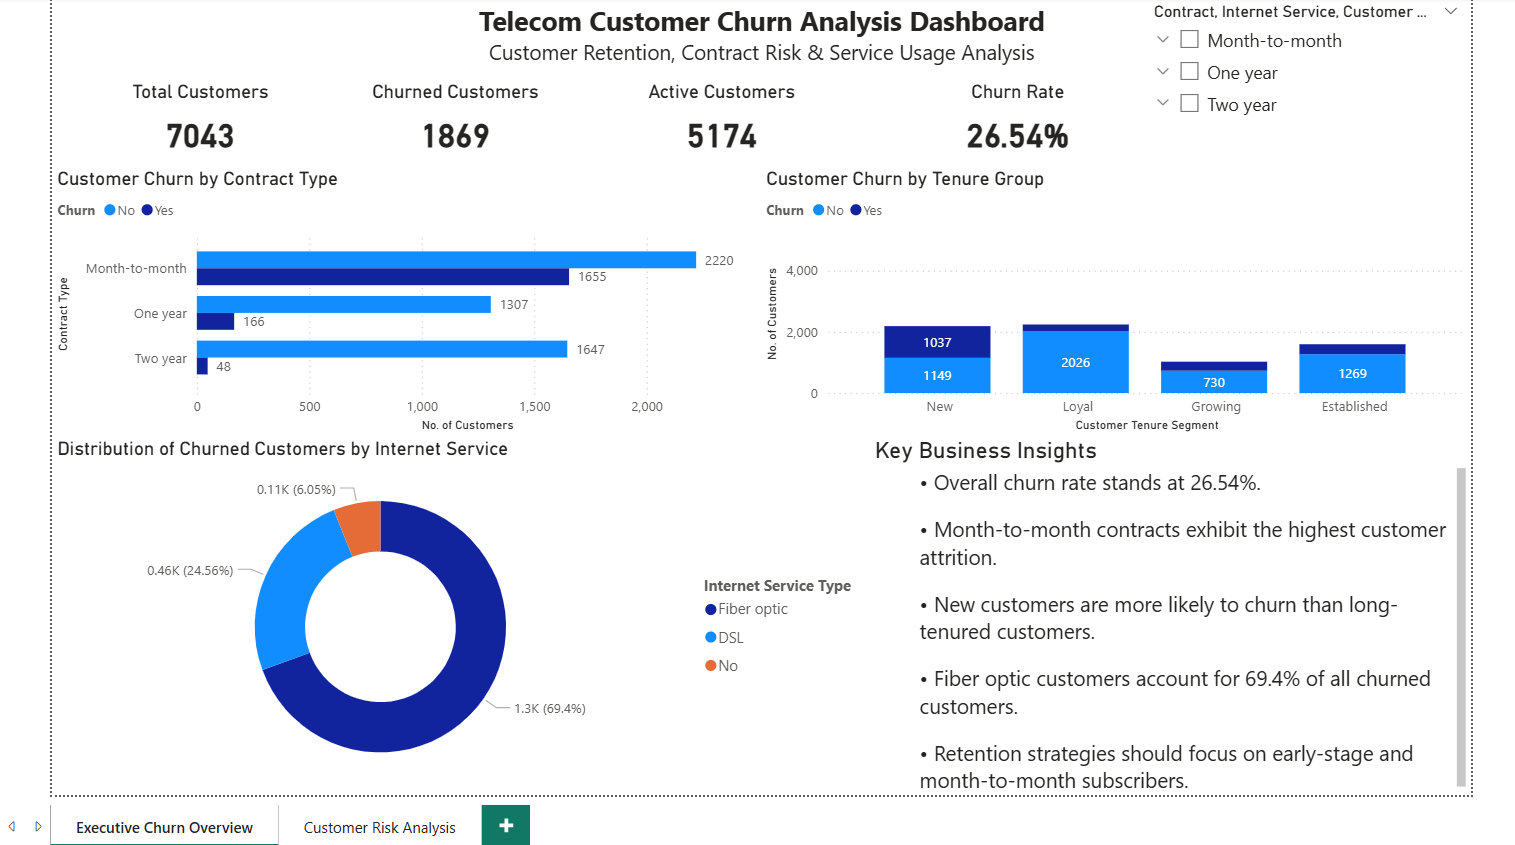

The dashboard page shown, as its layout file describes it:
{"tool":"powerbi","page":{"name":"Executive Churn Overview","canvas":[1280,720],"ordinal":0},"visuals":[{"type":"textbox","box":[0,0,1280,75.9],"z":0},{"type":"card","title":"Total Customers","fields":{"Values":["WA_Fn-UseC_-Telco-Customer-Churn.Total Customers"]},"box":[0,75.9,267.5,77.1],"z":1},{"type":"card","title":"Churned Customers","fields":{"Values":["WA_Fn-UseC_-Telco-Customer-Churn.Churned Customers"]},"box":[230.1,75.9,267.5,77.1],"z":2},{"type":"card","title":"Active Customers","fields":{"Values":["WA_Fn-UseC_-Telco-Customer-Churn.Active Customers"]},"box":[470.2,75.9,267.5,77.1],"z":3},{"type":"card","title":"Churn Rate","fields":{"Values":["WA_Fn-UseC_-Telco-Customer-Churn.Churn Rate"]},"box":[737.7,75.9,267.5,77.1],"z":4},{"type":"clusteredBarChart","title":"Customer Churn by Contract Type","fields":{"Category":["WA_Fn-UseC_-Telco-Customer-Churn.Contract"],"Y":["CountNonNull(WA_Fn-UseC_-Telco-Customer-Churn.customerID)"],"Series":["WA_Fn-UseC_-Telco-Customer-Churn.Churn"]},"box":[0,153,639.4,243.8],"z":5},{"type":"donutChart","title":"Distribution of Churned Customers by Internet Service","fields":{"Category":["WA_Fn-UseC_-Telco-Customer-Churn.InternetService"],"Y":["CountNonNull(WA_Fn-UseC_-Telco-Customer-Churn.customerID)"]},"box":[0,396.8,737.7,323.4],"z":6},{"type":"columnChart","title":"Customer Churn by Tenure Group","fields":{"Category":["WA_Fn-UseC_-Telco-Customer-Churn.Tenure Group"],"Y":["CountNonNull(WA_Fn-UseC_-Telco-Customer-Churn.customerID)"],"Series":["WA_Fn-UseC_-Telco-Customer-Churn.Churn"]},"box":[639.4,153,640.6,243.8],"z":7},{"type":"textbox","title":"Key Business Insights","box":[737.7,396.8,542.4,323.4],"z":8},{"type":"slicer","fields":{"Values":["WA_Fn-UseC_-Telco-Customer-Churn.Contract","WA_Fn-UseC_-Telco-Customer-Churn.InternetService","WA_Fn-UseC_-Telco-Customer-Churn.Customer Segment"]},"box":[980.6,0,299.8,153.3],"z":9}]}

Visuals, with their boxes on the page's 1280x720 design canvas (x1, y1, x2, y2). These are canvas units, not pixel positions in the 1515x845 screenshot, which may show the page scaled, cropped or inside an application window:
textbox: 0:0:1280:76
"Total Customers" card: 0:76:268:153
"Churned Customers" card: 230:76:498:153
"Active Customers" card: 470:76:738:153
"Churn Rate" card: 738:76:1005:153
"Customer Churn by Contract Type" clusteredBarChart: 0:153:639:397
"Distribution of Churned Customers by Internet Service" donutChart: 0:397:738:720
"Customer Churn by Tenure Group" columnChart: 639:153:1280:397
"Key Business Insights" textbox: 738:397:1280:720
slicer - WA_Fn-UseC_-Telco-Customer-Churn.Contract x WA_Fn-UseC_-Telco-Customer-Churn.InternetService: 981:0:1280:153
